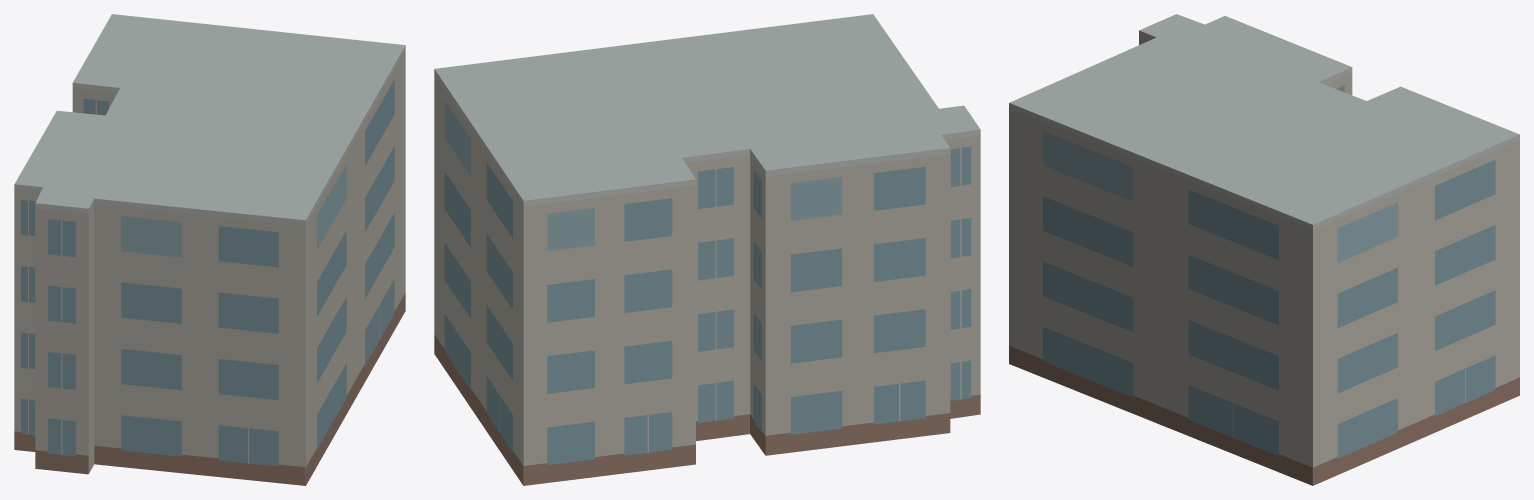
The model's file is survey-upis-32673881.glb.
The picture shows the model from 3 angles, left to right: view 1: azimuth 30°, elevation 25°; view 2: azimuth 150°, elevation 25°; view 3: azimuth 270°, elevation 25°; orthographic projection. The views are drawn at different scales.
Visible parts, largest first — view 1: survey-upis-32673881.tmp; view 2: survey-upis-32673881.tmp; view 3: survey-upis-32673881.tmp.
Boxes of the visible parts, x1=… form: survey-upis-32673881.tmp: x1=14, y1=14, x2=405, y2=485; survey-upis-32673881.tmp: x1=434, y1=14, x2=980, y2=485; survey-upis-32673881.tmp: x1=1009, y1=14, x2=1519, y2=485.
Bounding box in the file's own units: 20.37 × 11.76 × 20.86.
